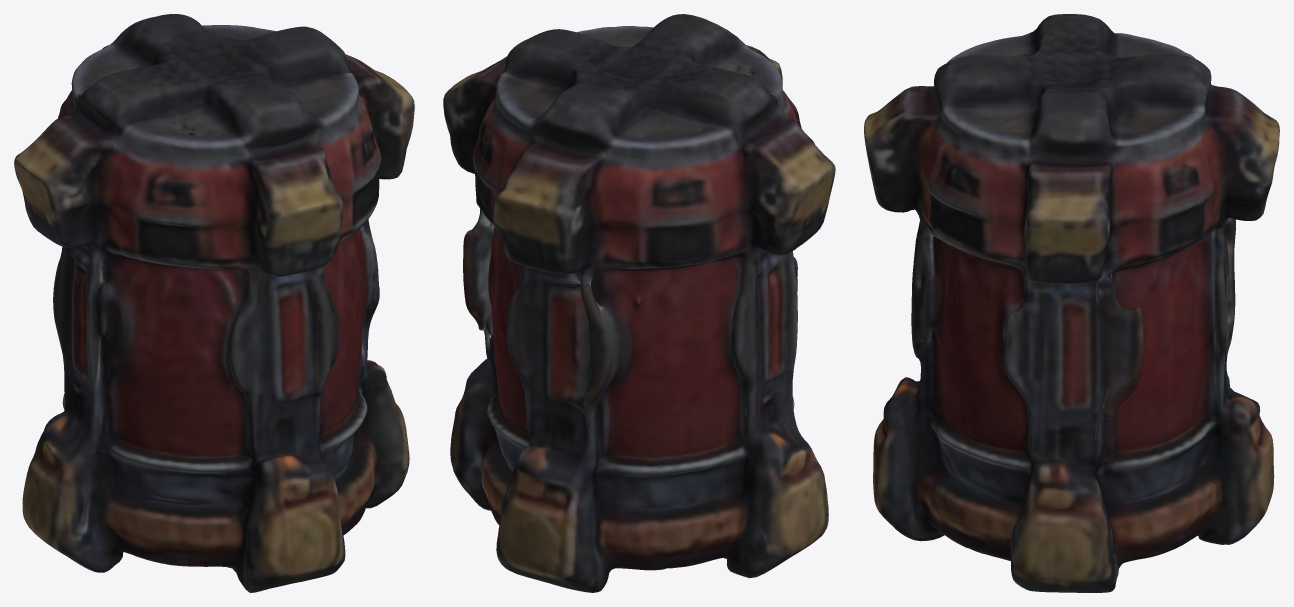
Rendered from 065588f80edd_Magic_protection_de.fbx.
3 renders of one model, left to right at view 1: azimuth 30°, elevation 25°; view 2: azimuth 150°, elevation 25°; view 3: azimuth 270°, elevation 25°, orthographic.
Parts seen in each view (by area): view 1: high_poly; view 2: high_poly; view 3: high_poly.
Part boxes in pixels (box(x1,y1,x2,y2)): high_poly: box(14, 14, 414, 592); high_poly: box(443, 14, 835, 592); high_poly: box(864, 14, 1279, 592).
Size of the model in its own units: 81.75 by 100 by 80.96.
